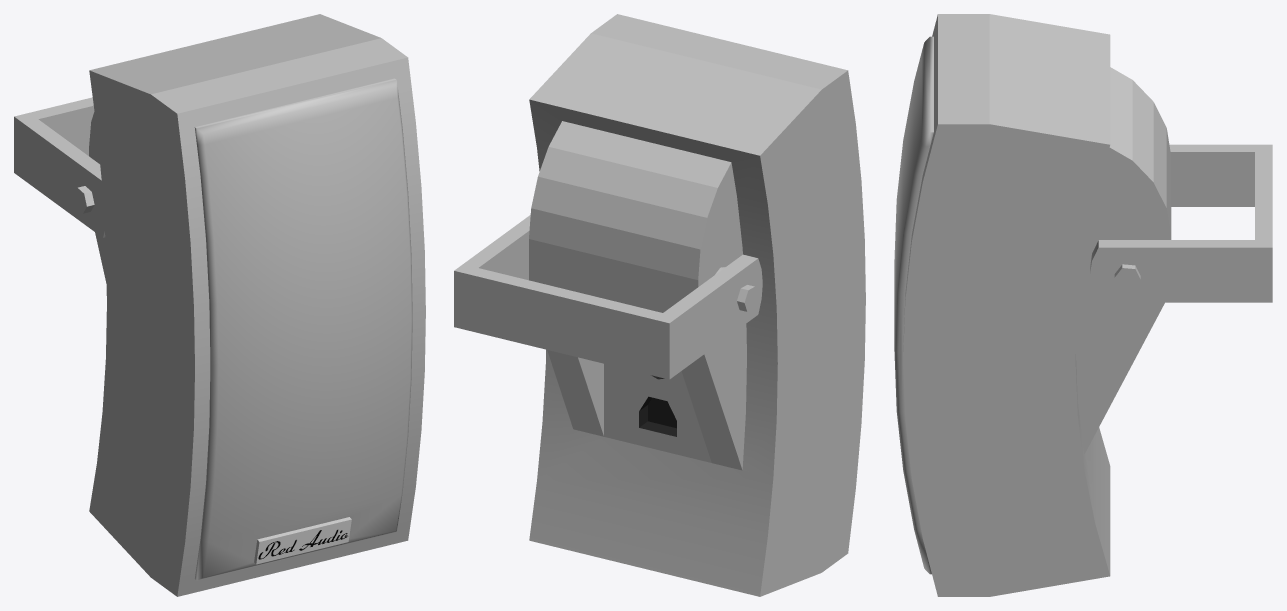
The model's file is small_speaker.dae.
The picture shows the model from 3 angles, left to right: view 1: azimuth 30°, elevation 25°; view 2: azimuth 150°, elevation 25°; view 3: azimuth 270°, elevation 25°; orthographic projection. The views are drawn at different scales.
Parts seen in each view (by area): view 1: speaker (×4), mount; view 2: speaker (×4), mount; view 3: speaker (×4), mount.
Part boxes in pixels (x1=…): speaker (×4): x1=89, y1=14, x2=425, y2=596; mount: x1=14, y1=97, x2=105, y2=237; speaker (×4): x1=529, y1=14, x2=865, y2=596; mount: x1=454, y1=215, x2=762, y2=379; speaker (×4): x1=894, y1=14, x2=1171, y2=596; mount: x1=1090, y1=144, x2=1272, y2=302.
Bounding box in the file's own units: 5.91 × 8.56 × 11.81.
